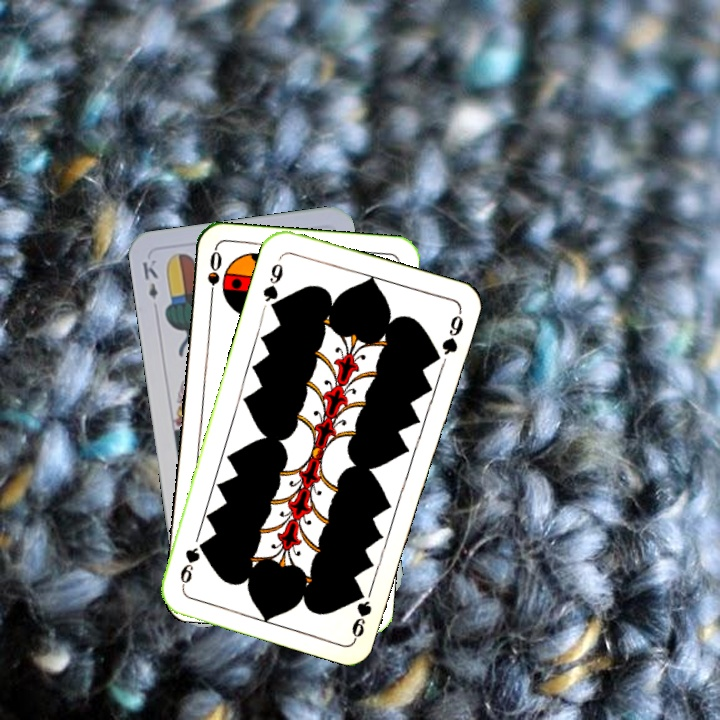EK: (138, 255, 160, 302)
G9: (259, 253, 286, 313), (348, 597, 374, 641)
SO: (203, 247, 225, 306)
